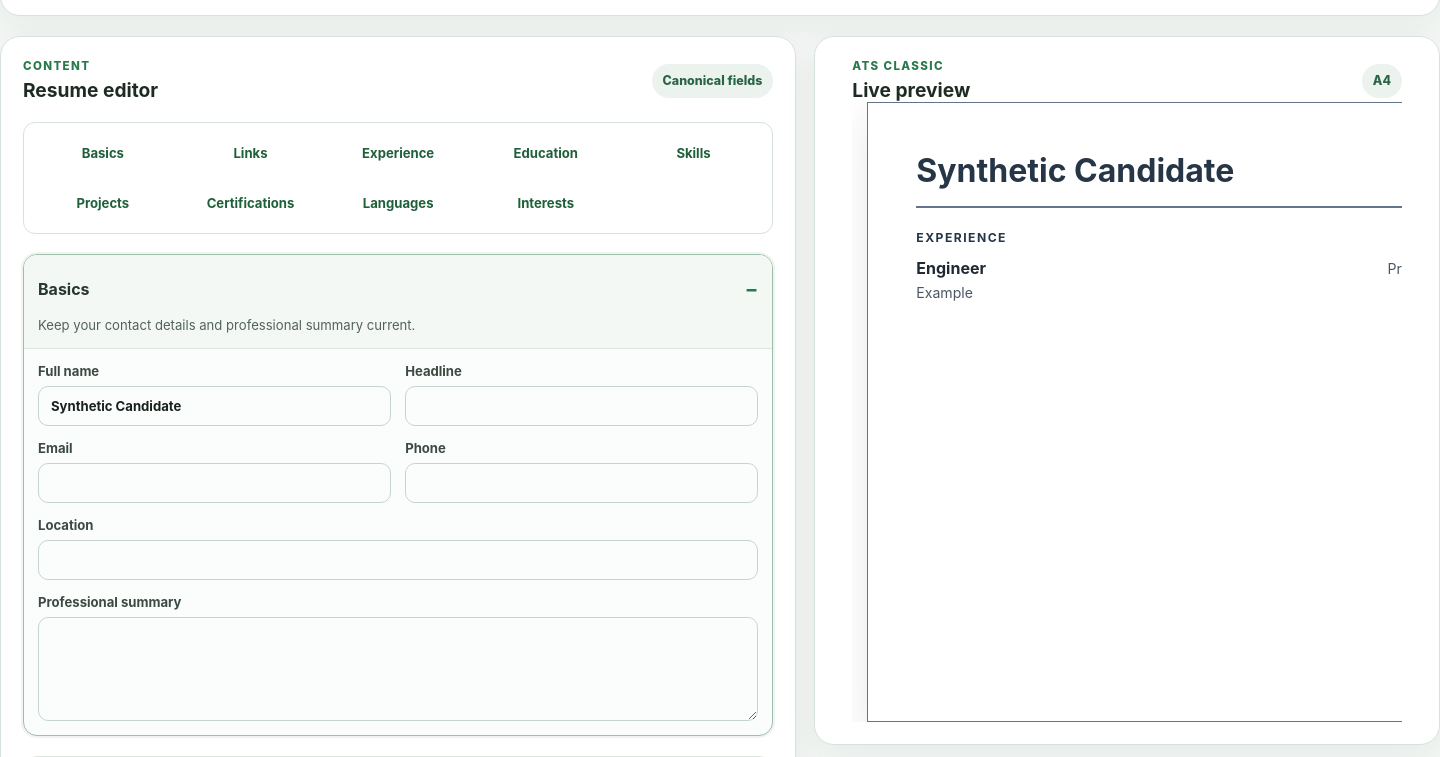
Scenario: ResumeWorkspace › preserves the draft after a backend save failure
(page scrolled)
Replace the text in the field labelled "Full name" with "Preserved Draft Candidate" at (215, 406), box [38,386,391,426]
(page scrolled)
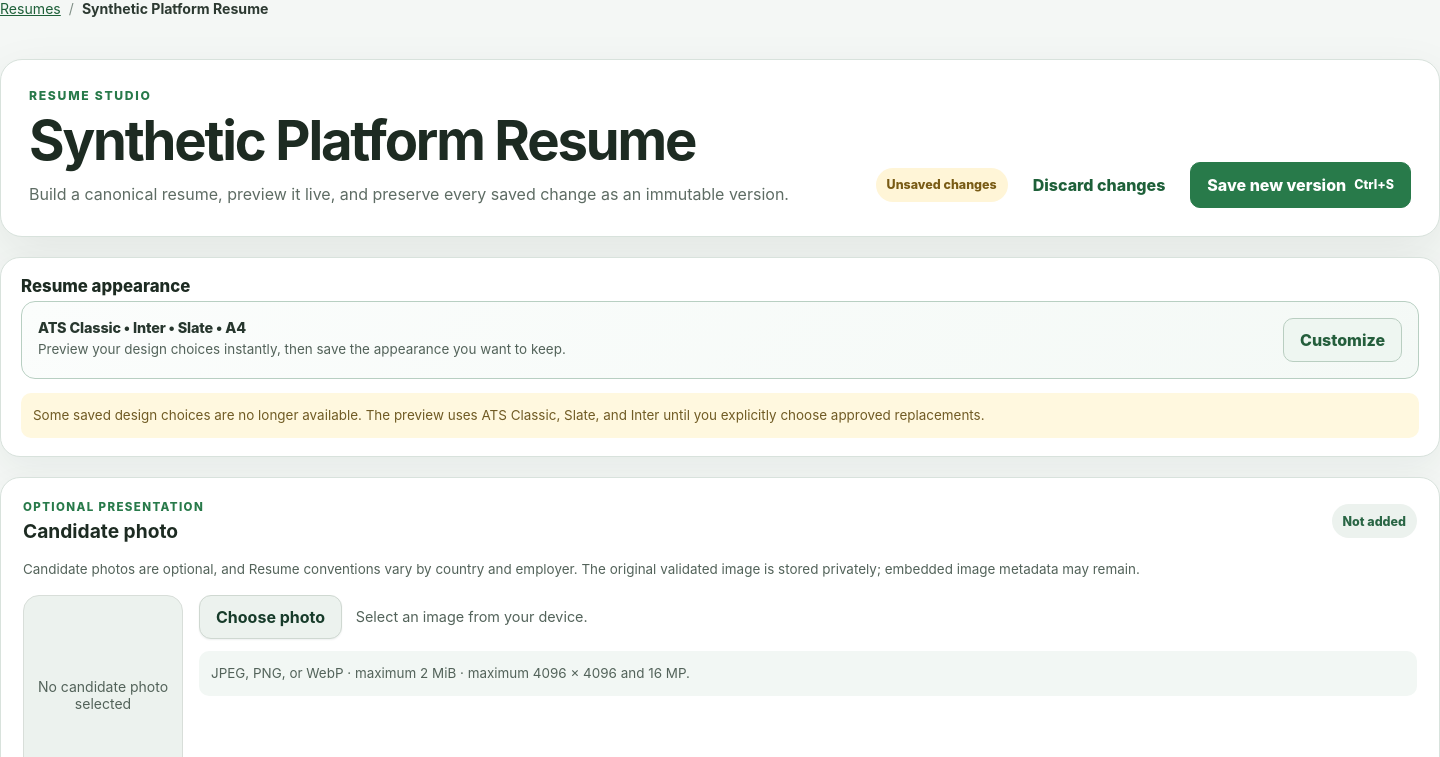
Click the button "Save new version Ctrl+S" at (1301, 185), box [1190,162,1411,208]
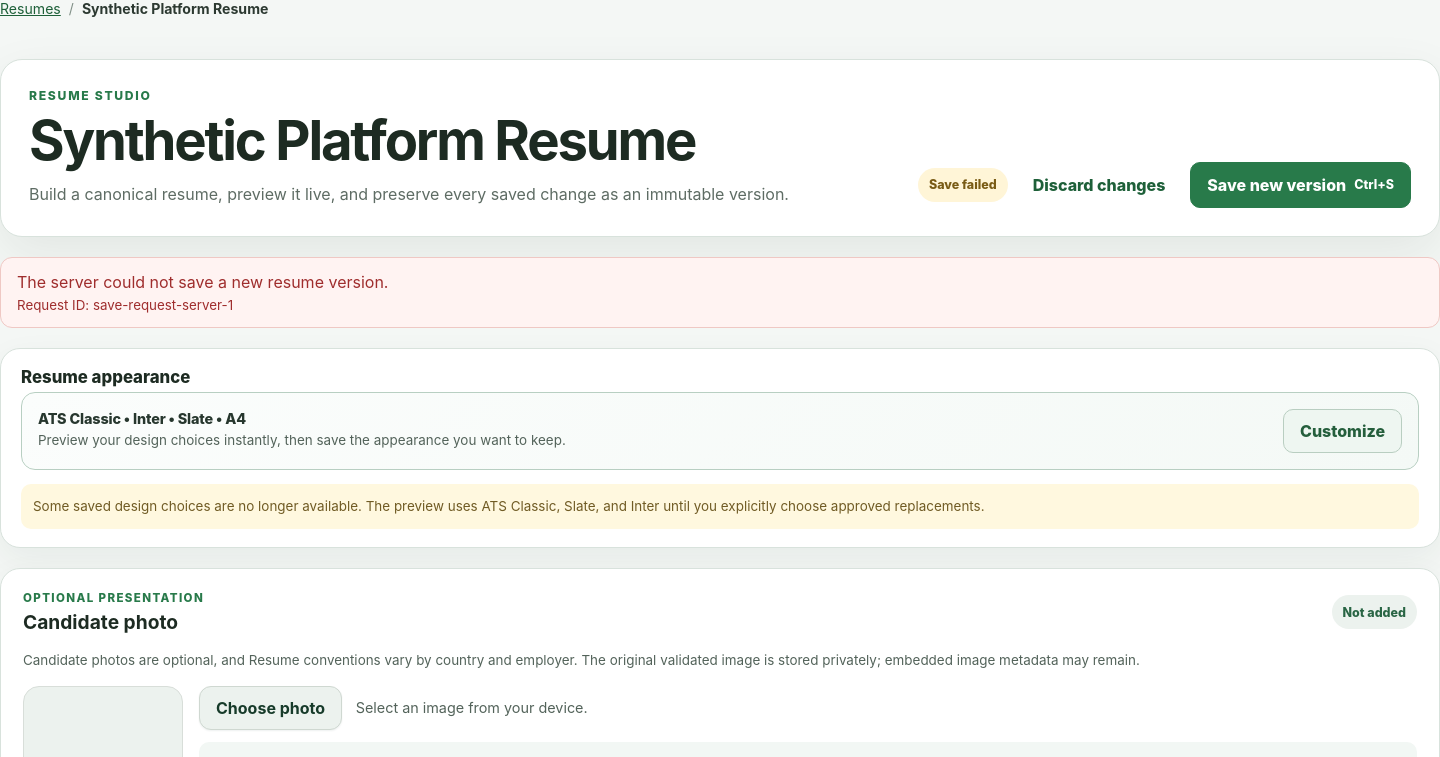
Expected: the text "The server could not save a new resume version." is shown, [17,272,388,292]
Expected: the text "Save failed" is shown, [918,168,1008,202]
